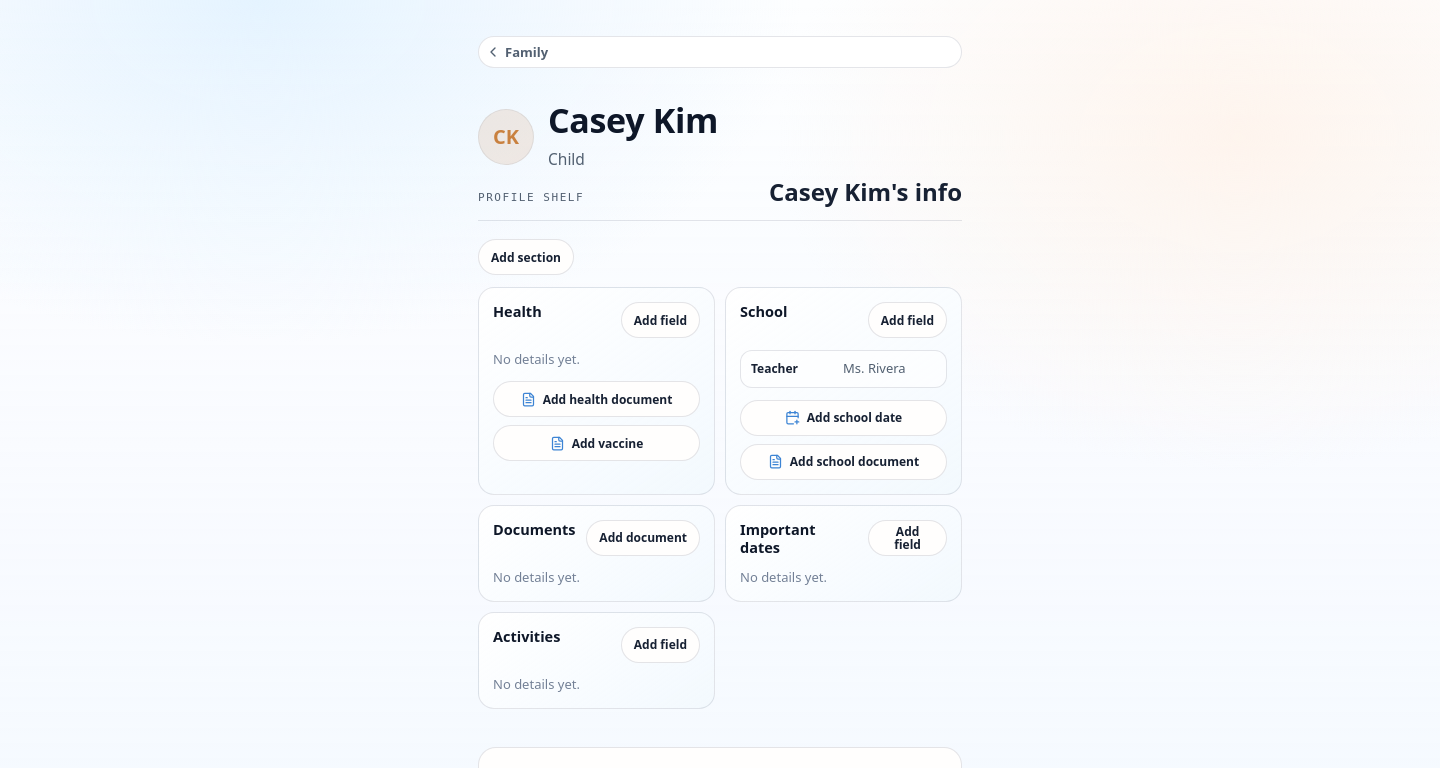
Test: MemberProfileView profile sections › cancels section and field forms without saving
Click the button "Add section". click: [526, 257]
box: left=478, top=239, right=574, bottom=275
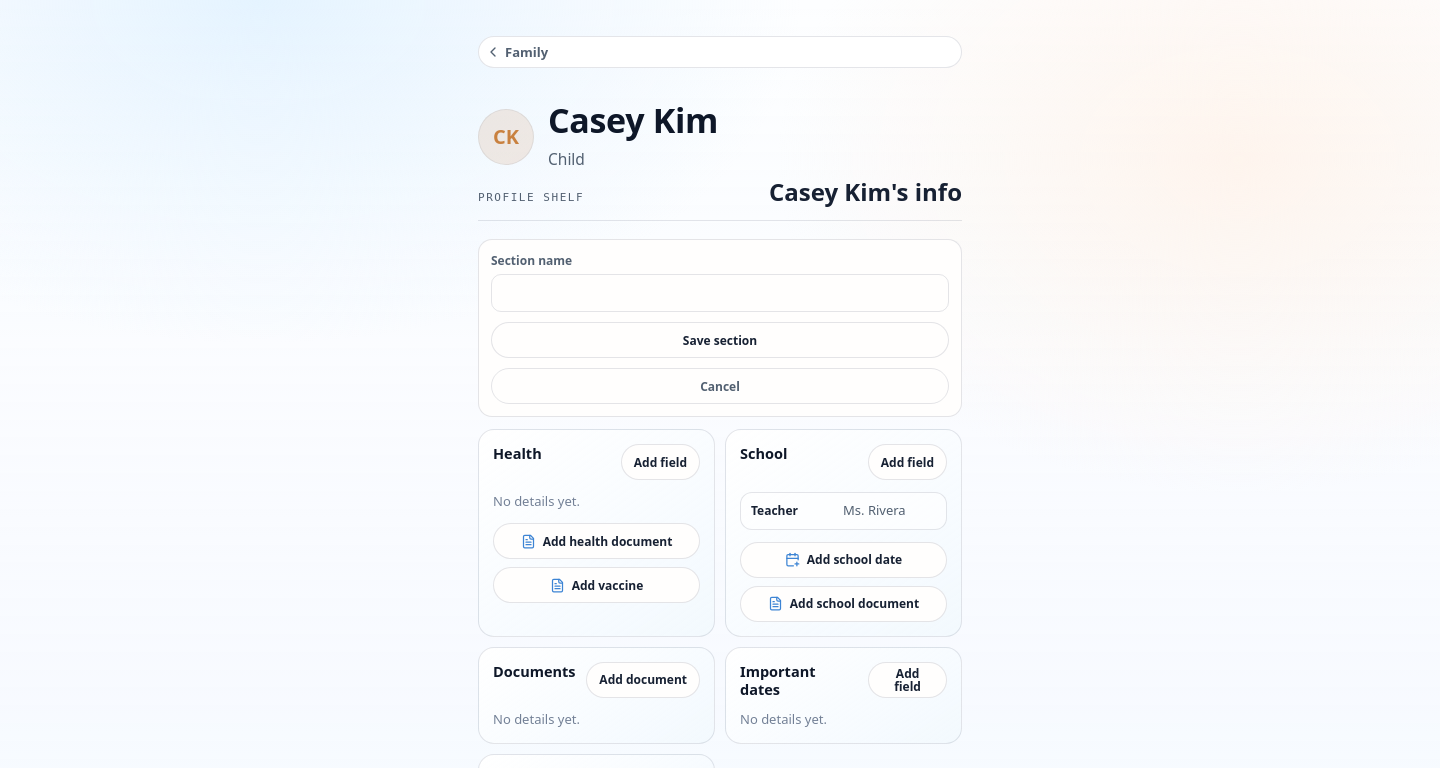
Type "Therapy" into the field labelled "Section name". click: [720, 293]
box: left=491, top=274, right=949, bottom=312
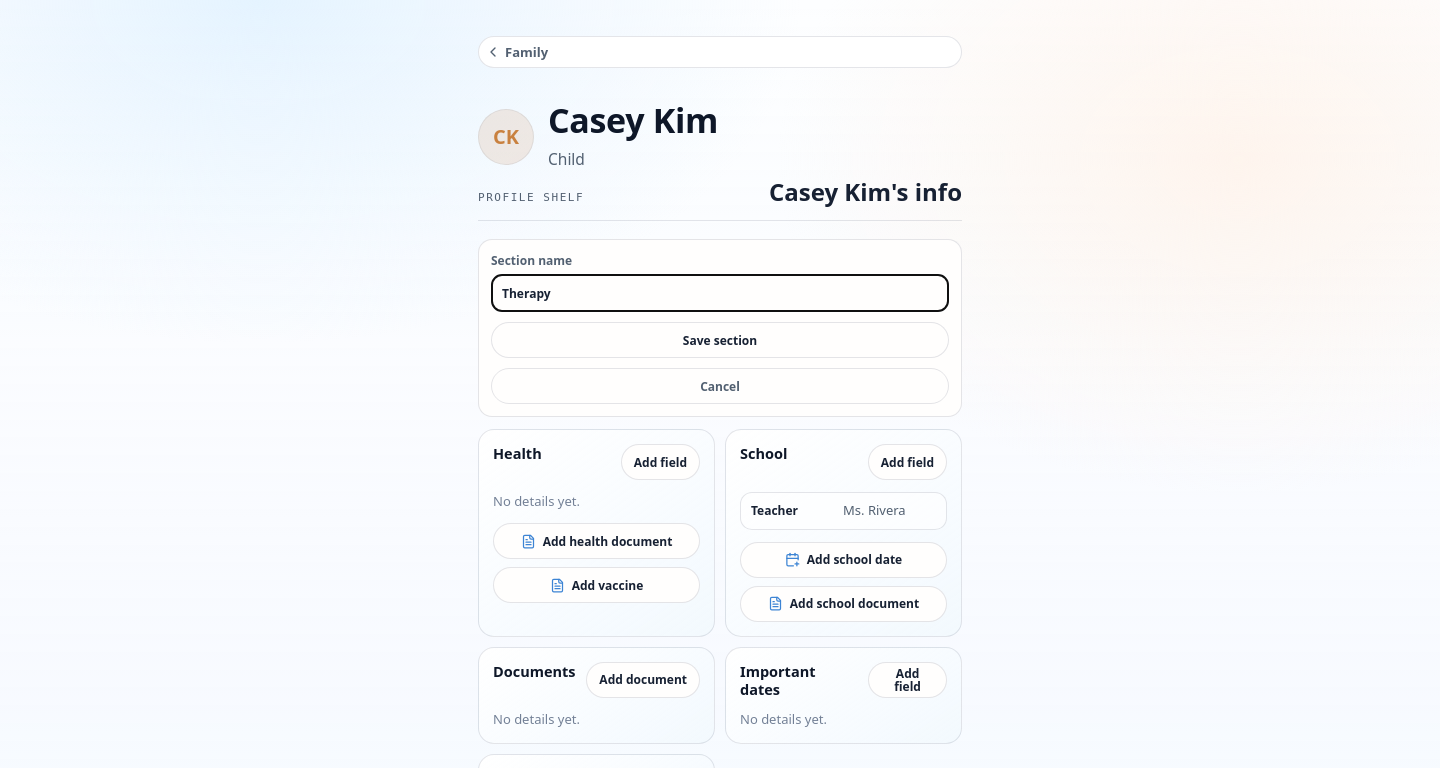
Click the button "Cancel". click: [720, 386]
box: left=491, top=368, right=949, bottom=404
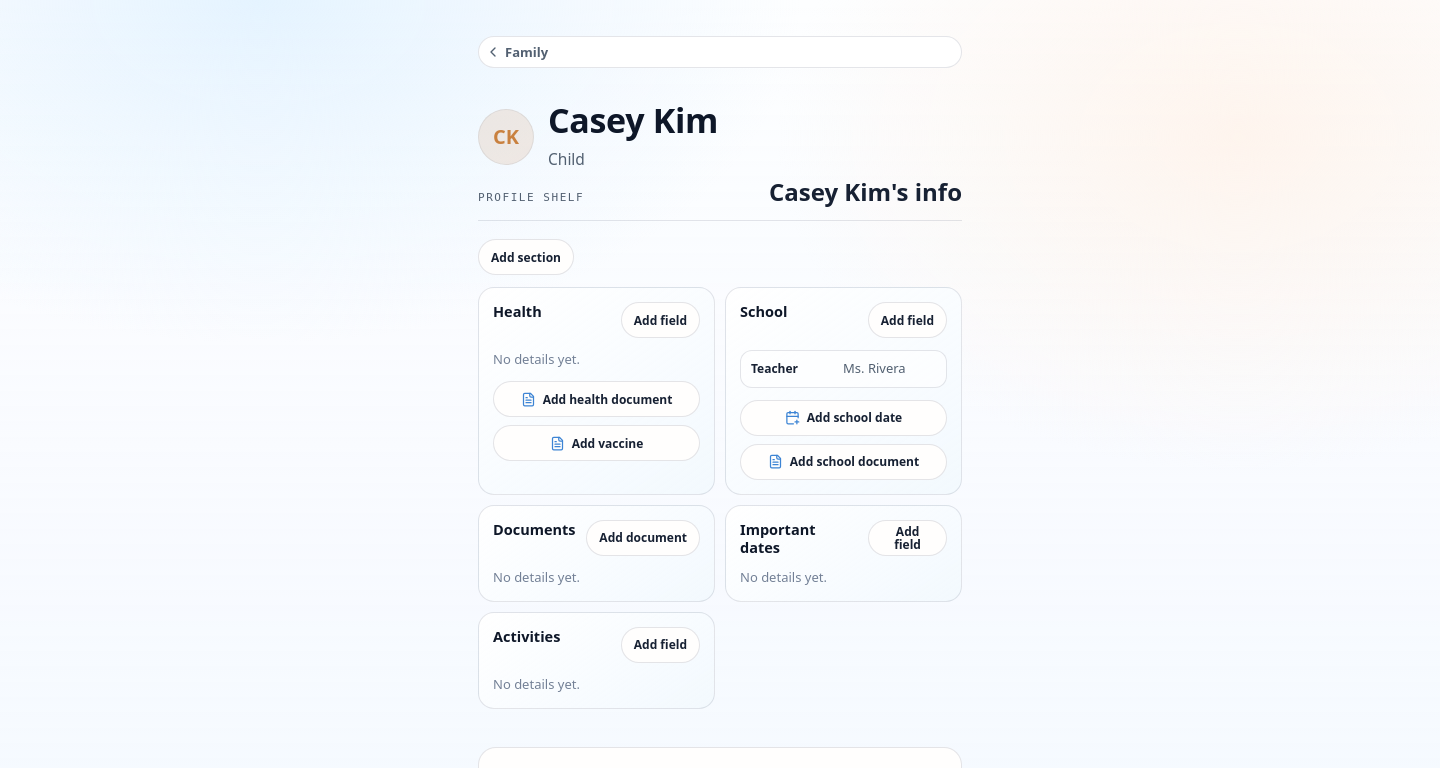
Now the text labelled "Section name" is gone
Click the button with aria-label "Add field to Health". click: [660, 320]
box: left=621, top=302, right=700, bottom=338
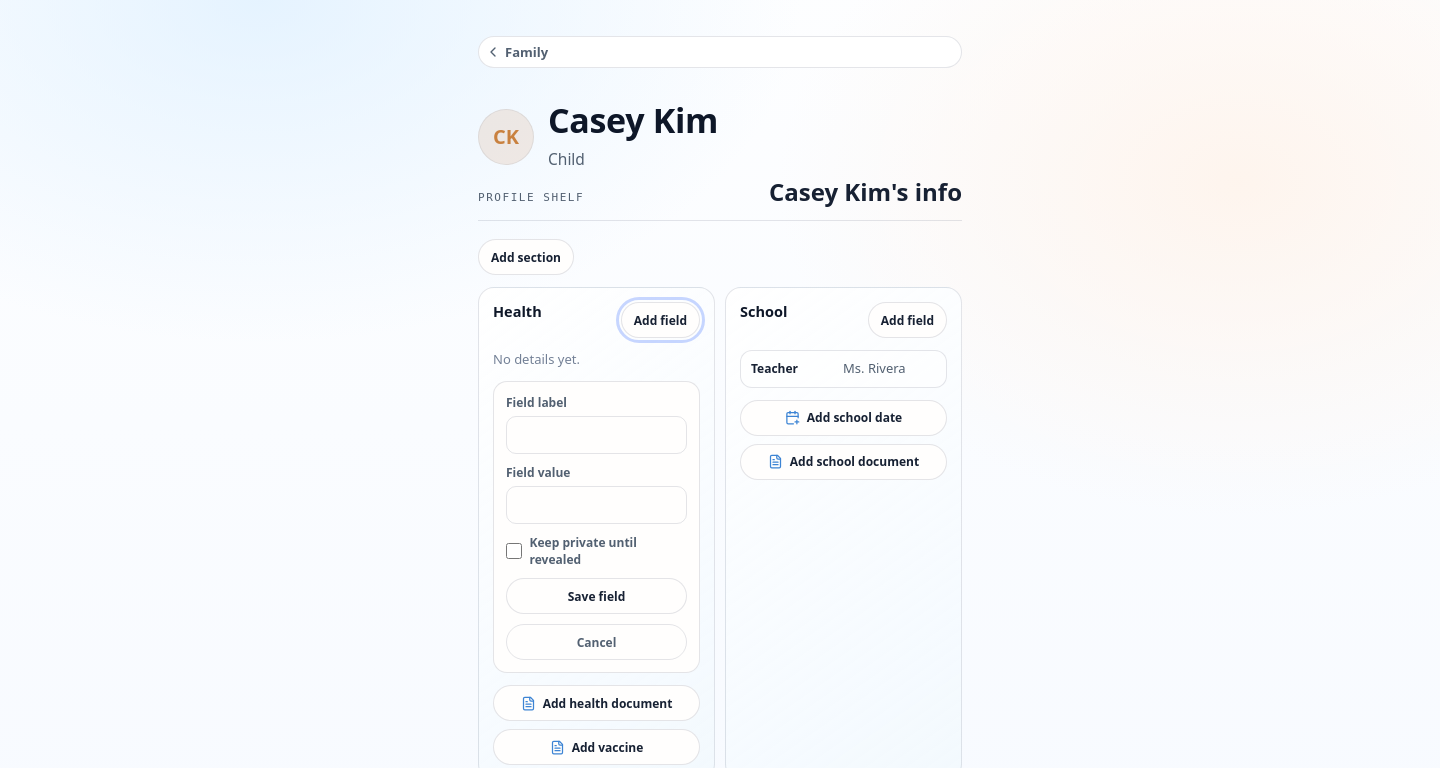
Type "Allergy" into the field labelled "Field label". click: [596, 435]
box: left=506, top=416, right=687, bottom=454
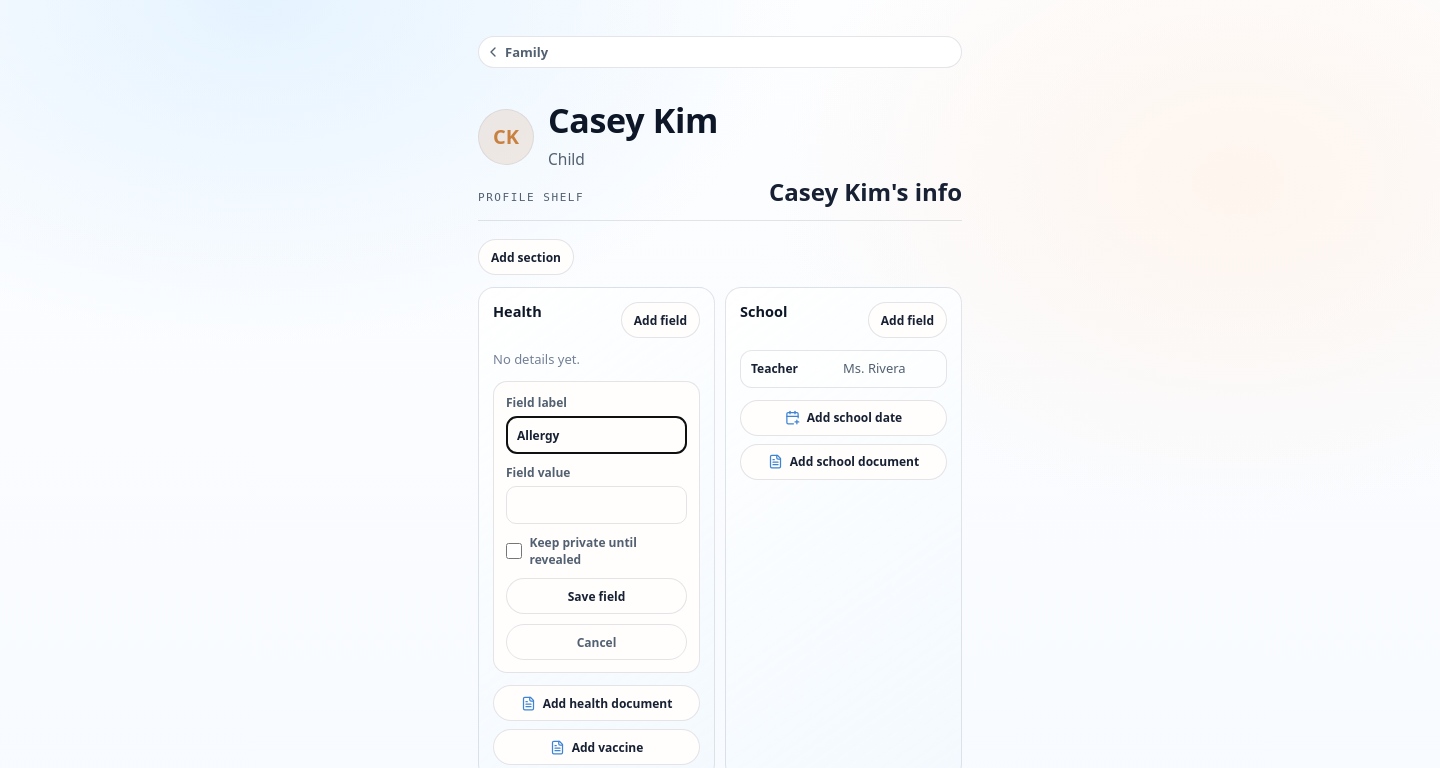
Click the button "Cancel". click: [596, 642]
box: left=506, top=624, right=687, bottom=660
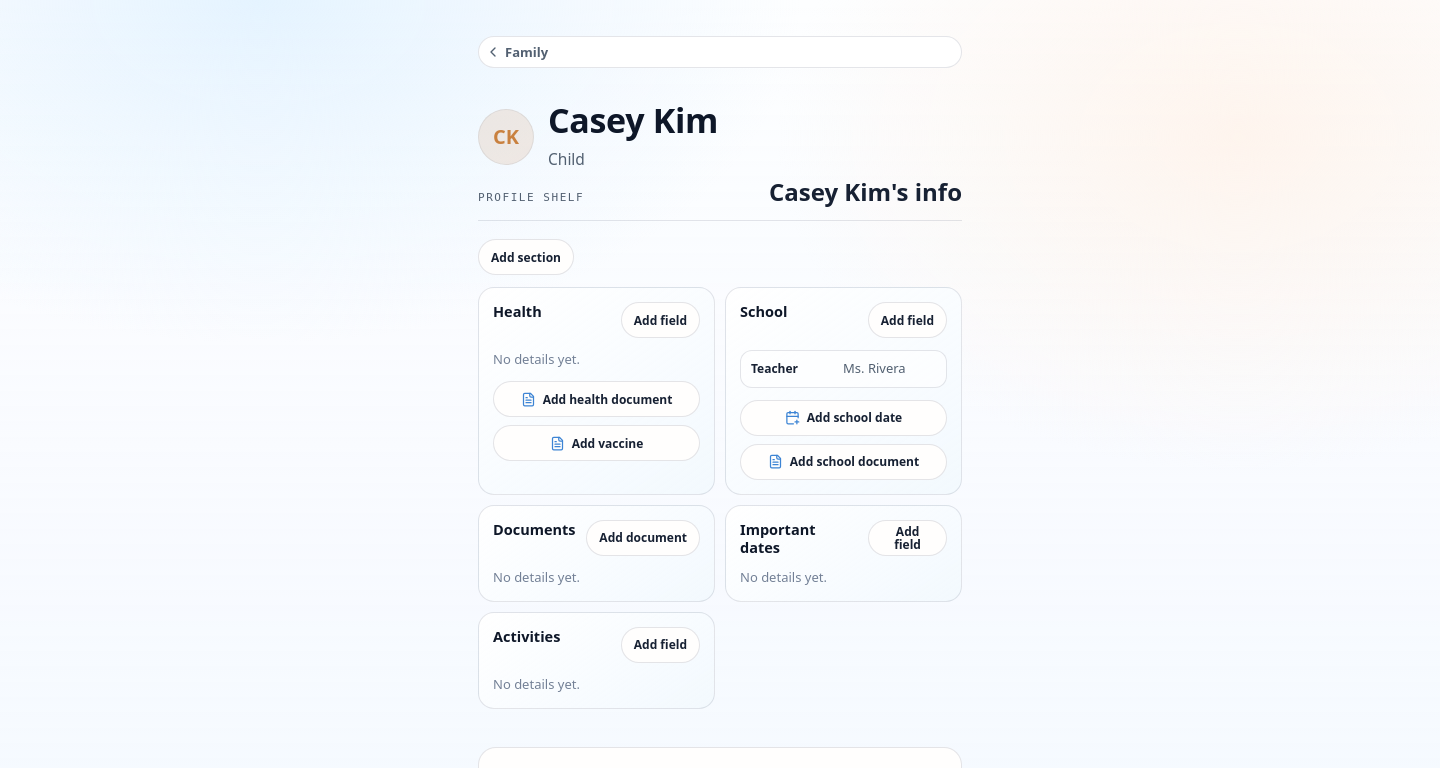
Now the text labelled "Field label" is gone
